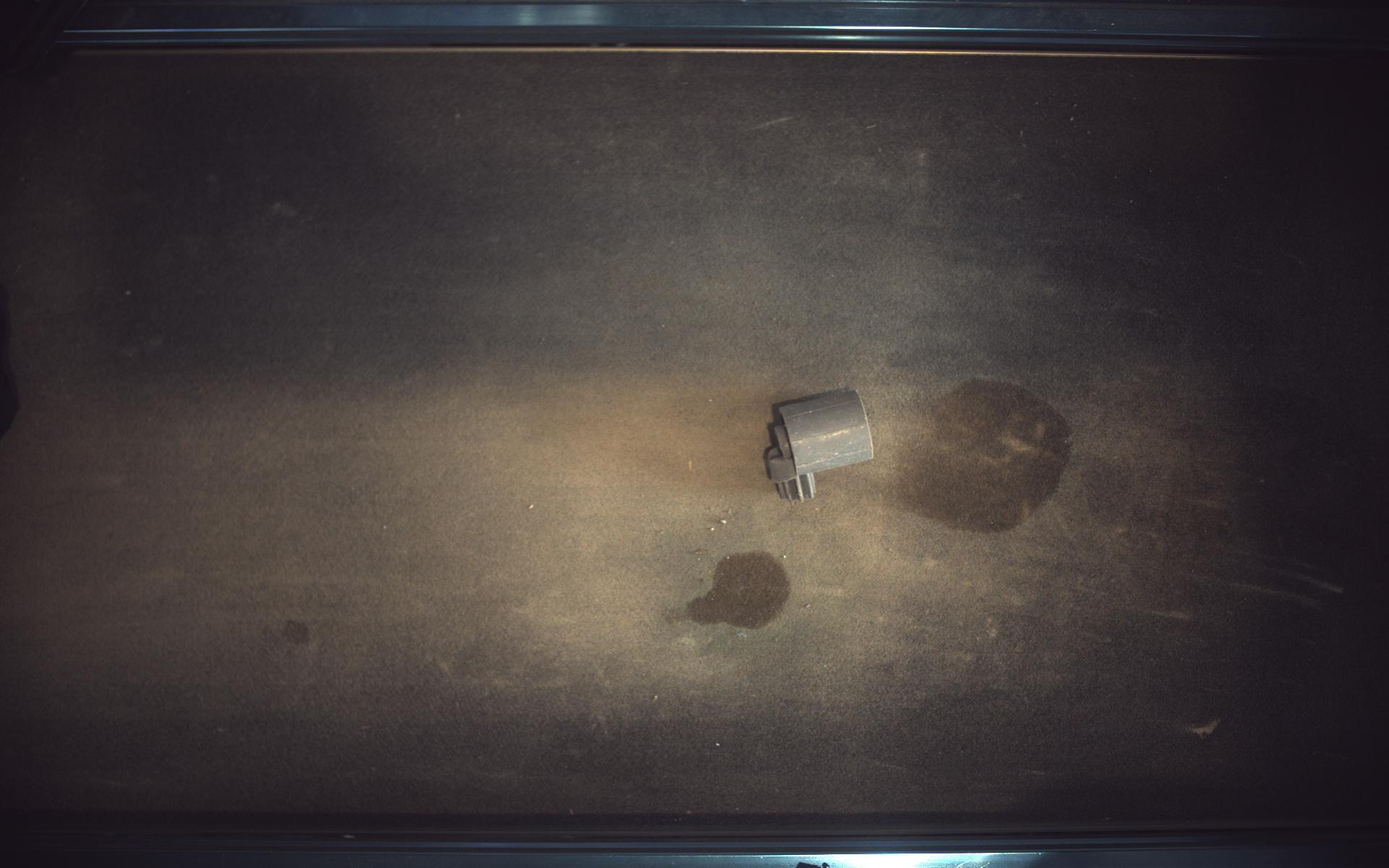plastic: (765, 389, 875, 501)
